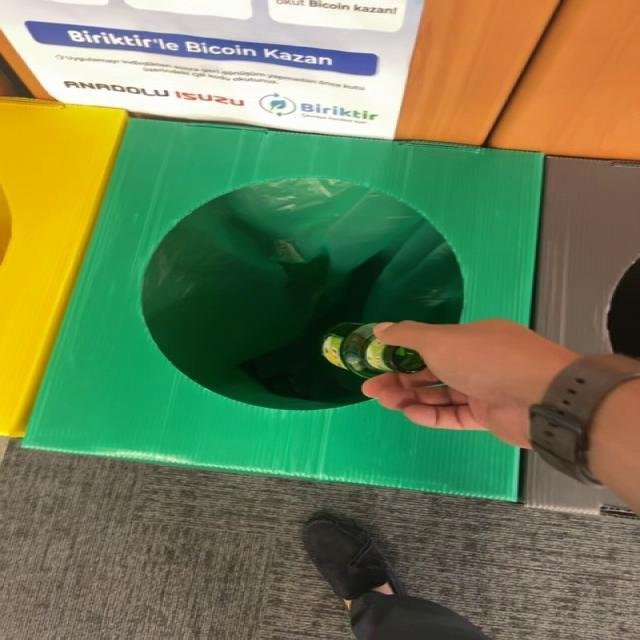Glass: (323, 323, 427, 378)
